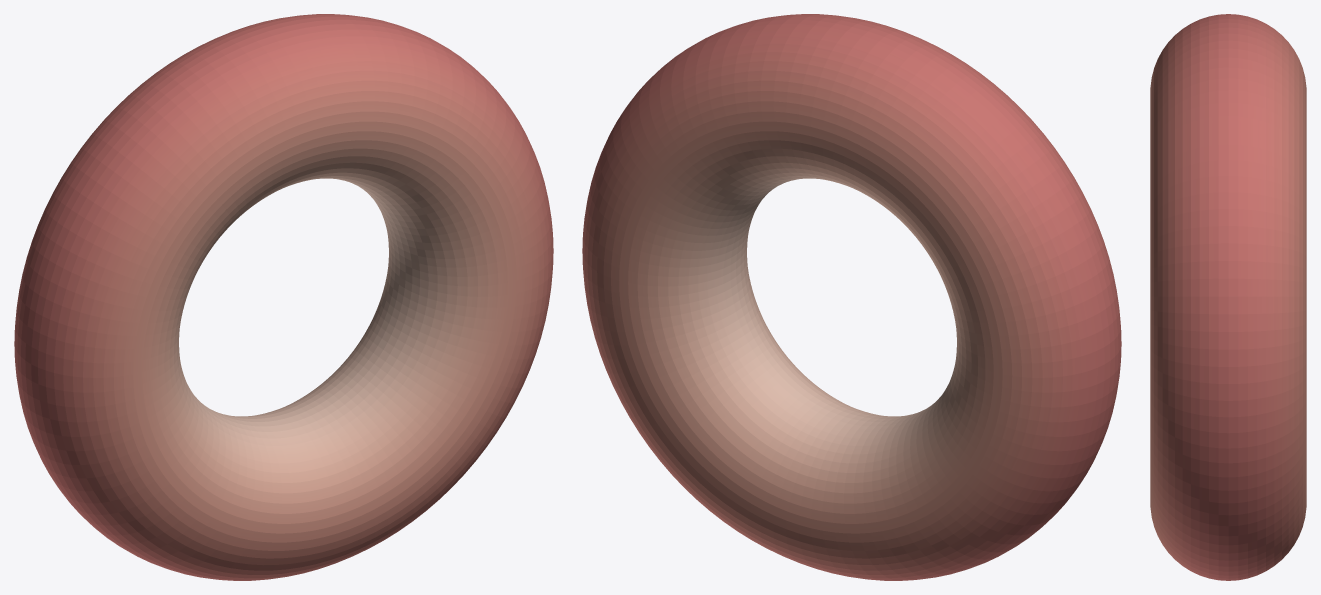
The picture shows the model from 3 angles, left to right: view 1: azimuth 30°, elevation 25°; view 2: azimuth 150°, elevation 25°; view 3: azimuth 270°, elevation 25°; orthographic projection. The views are drawn at different scales.
Visible parts, largest first — view 1: world; view 2: world; view 3: world.
Boxes of the visible parts, bbox=[...] form: world: bbox=[14, 14, 553, 580]; world: bbox=[582, 14, 1121, 580]; world: bbox=[1150, 14, 1306, 580].
Size of the model in its own units: 28.53 by 28.53 by 7.85.
